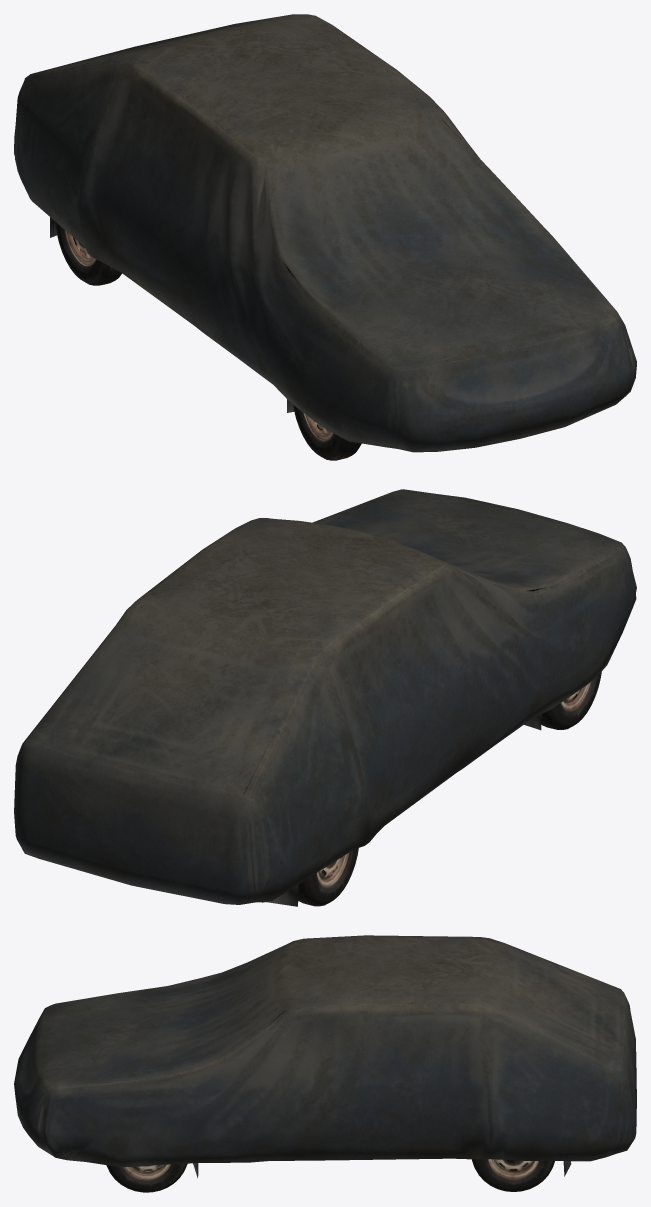
Rendered from covered_car.glb.
3 views of the same model, one above another, from view 1: azimuth 30°, elevation 25°; view 2: azimuth 150°, elevation 25°; view 3: azimuth 270°, elevation 25° (orthographic). The views are drawn at different scales.
Visible parts, largest first — view 1: covered_car, covered_car_wheel_03, covered_car_wheel_02; view 2: covered_car, covered_car_wheel_03, covered_car_wheel_02; view 3: covered_car, covered_car_wheel_04, covered_car_wheel_01.
Boxes of the visible parts, bbox=[...] form: covered_car: bbox=[14, 14, 636, 452]; covered_car_wheel_03: bbox=[55, 222, 121, 285]; covered_car_wheel_02: bbox=[293, 404, 361, 460]; covered_car: bbox=[14, 489, 636, 906]; covered_car_wheel_03: bbox=[298, 848, 358, 906]; covered_car_wheel_02: bbox=[541, 671, 601, 729]; covered_car: bbox=[14, 935, 636, 1178]; covered_car_wheel_04: bbox=[472, 1159, 554, 1191]; covered_car_wheel_01: bbox=[106, 1163, 187, 1192].
Size of the model in its own units: 1.79 by 1.41 by 4.38.
1 material, 1 textured.
